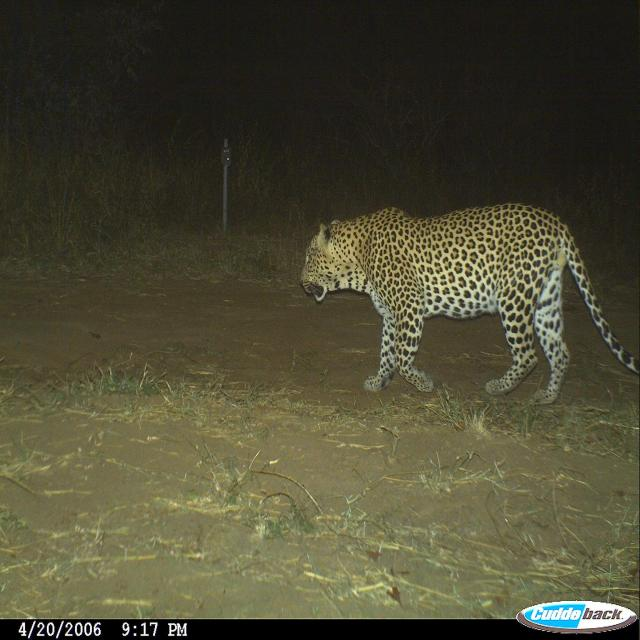Leopard: (287, 198, 640, 410)
